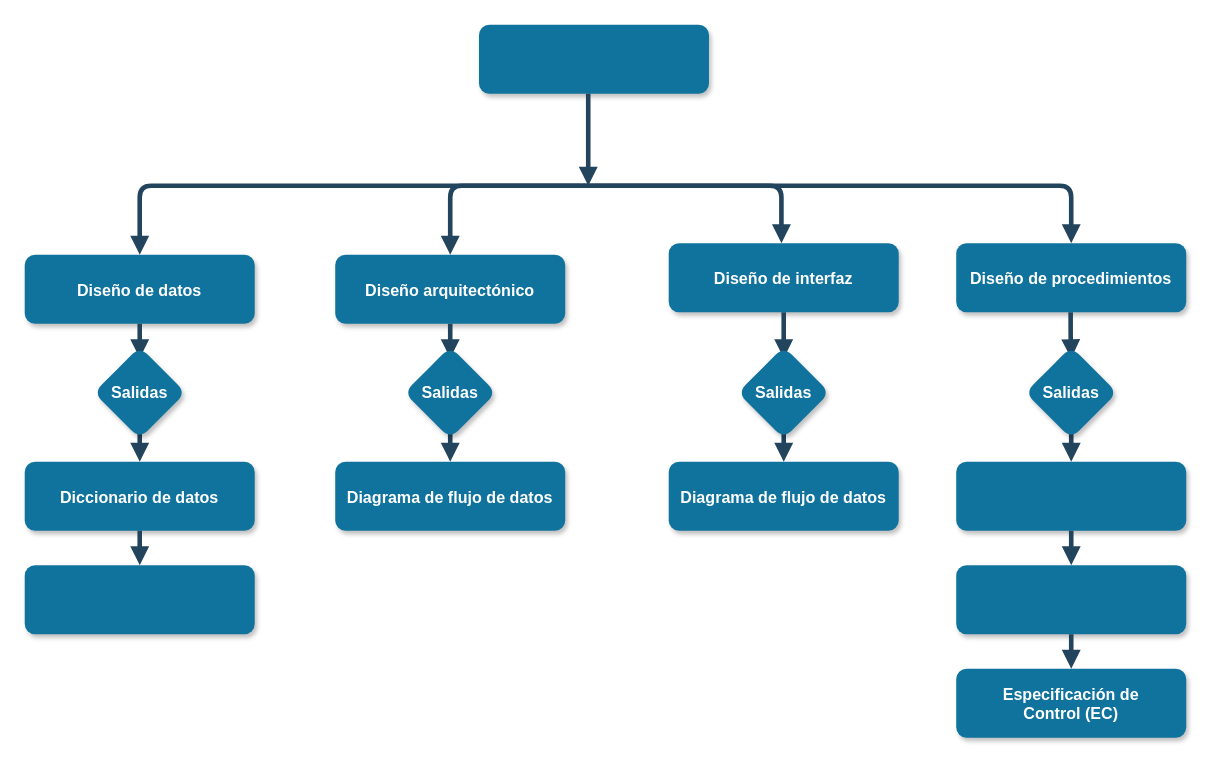
This 1212x765 diagram has some shape labels left out. Each missing label, with the centre of its shape:
"Diagrama de Transición de Estado (DTE)" belongs at point 1072,601.
"Diagrama Entidad-Relación (ER)" belongs at point 140,601.
"Diseño de software" belongs at point 594,60.
"Especificación del proceso (EP)" belongs at point 1072,497.
